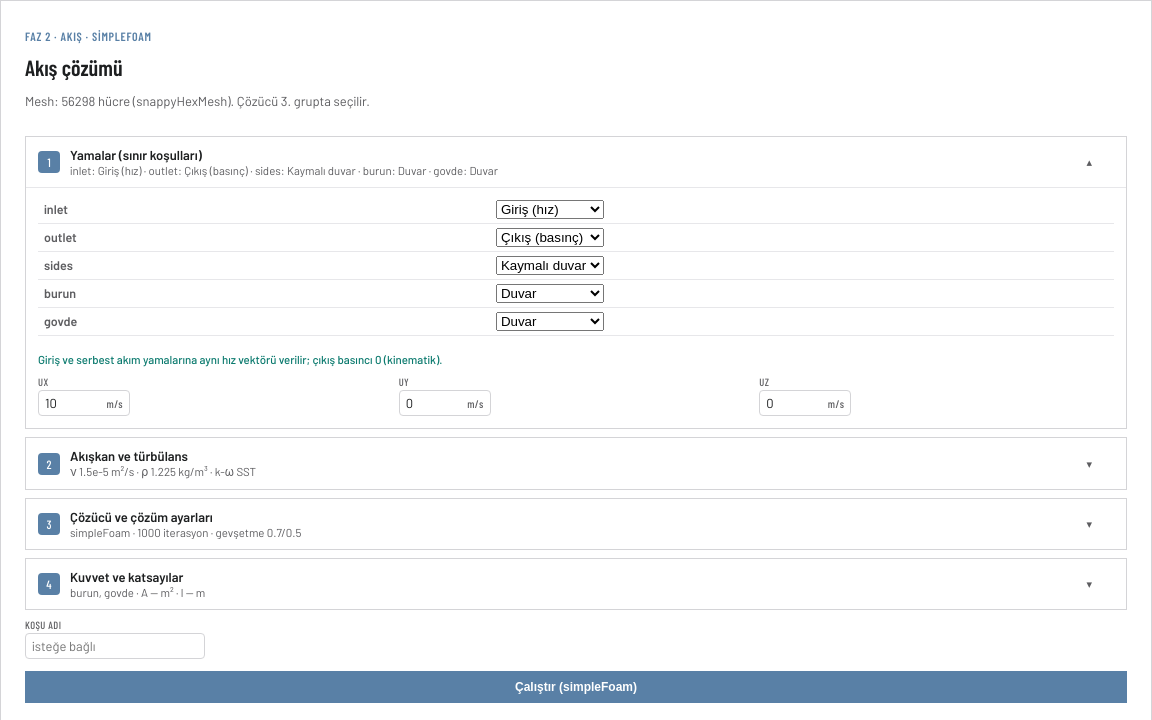
Scenario: CfdSolvePanel (AKIŞ · 3 · Akış) › kuvvet referansları boşsa kuvvet istenmez; hata mesajı gösterilir
The image size is (1152, 720).
Click the button "Çalıştır (simpleFoam)": (576, 687) [25,671,1127,703]
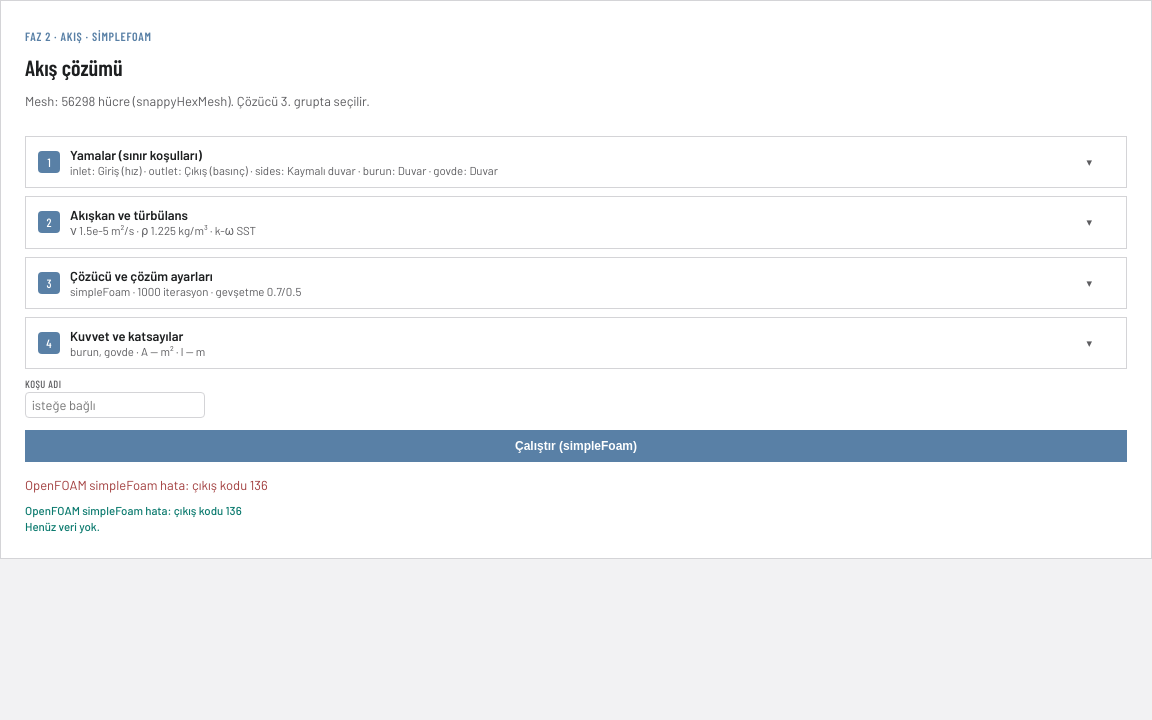
Check: the message shows "çıkış kodu 136", box [25,477,268,493]
